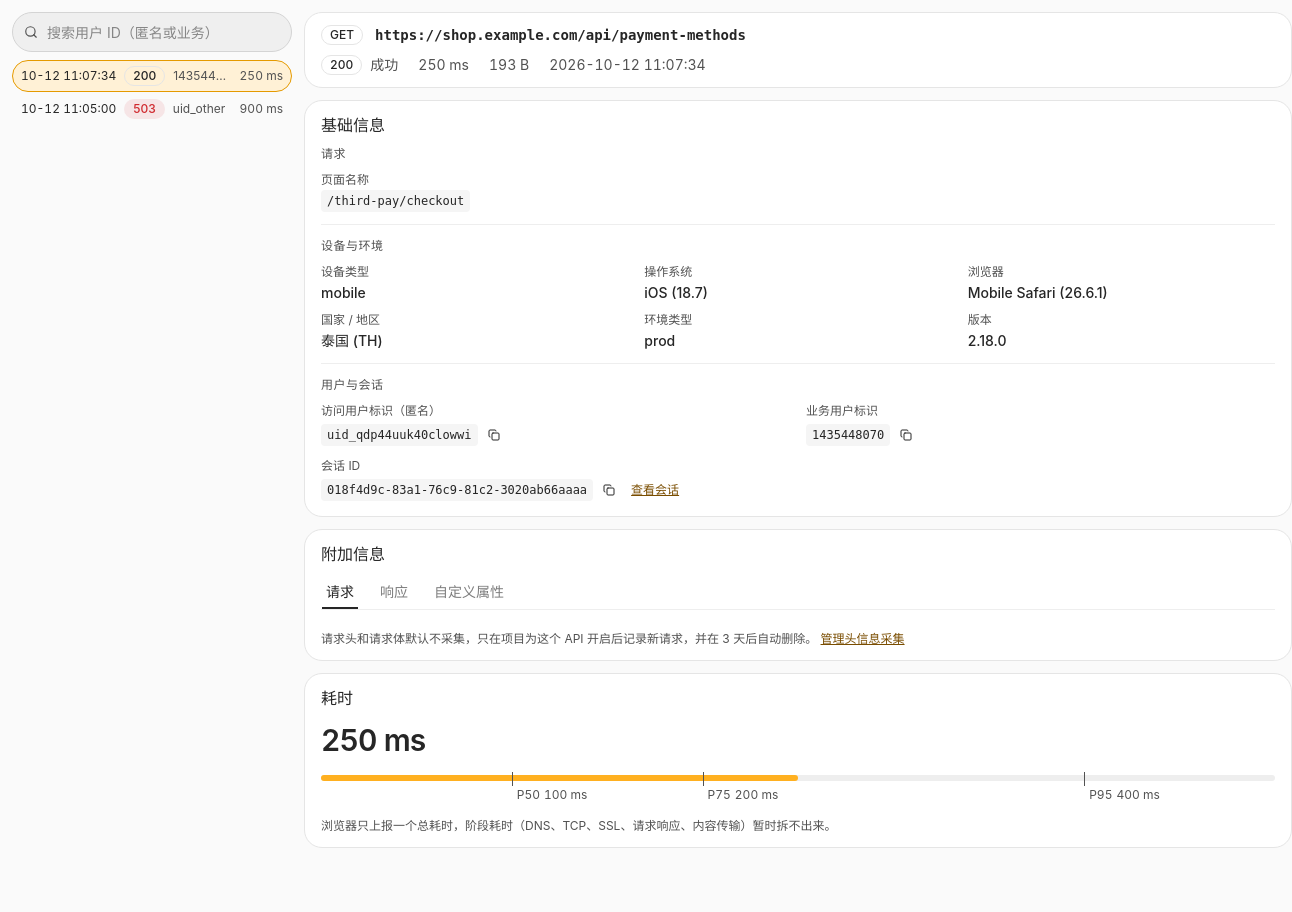
ApiSamples › says so when a request has no custom attributes
The image size is (1292, 912).
Expected: the list named "请求列表" is shown, [12,60,292,125]
Click the tab "自定义属性" at (469, 592), box [429,574,509,609]
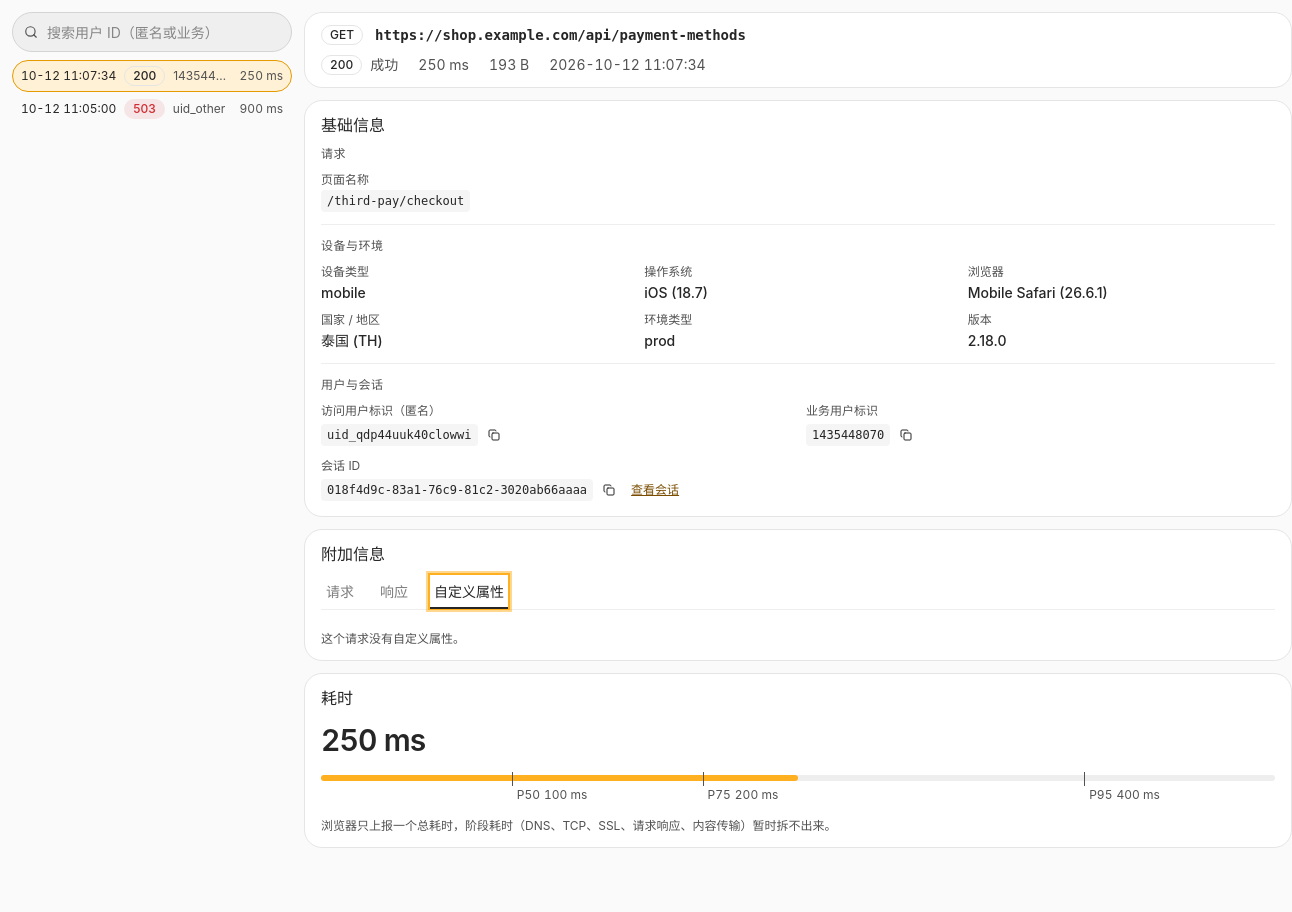
Now the text "这个请求没有自定义属性。" is shown, box [321,631,465,646]
